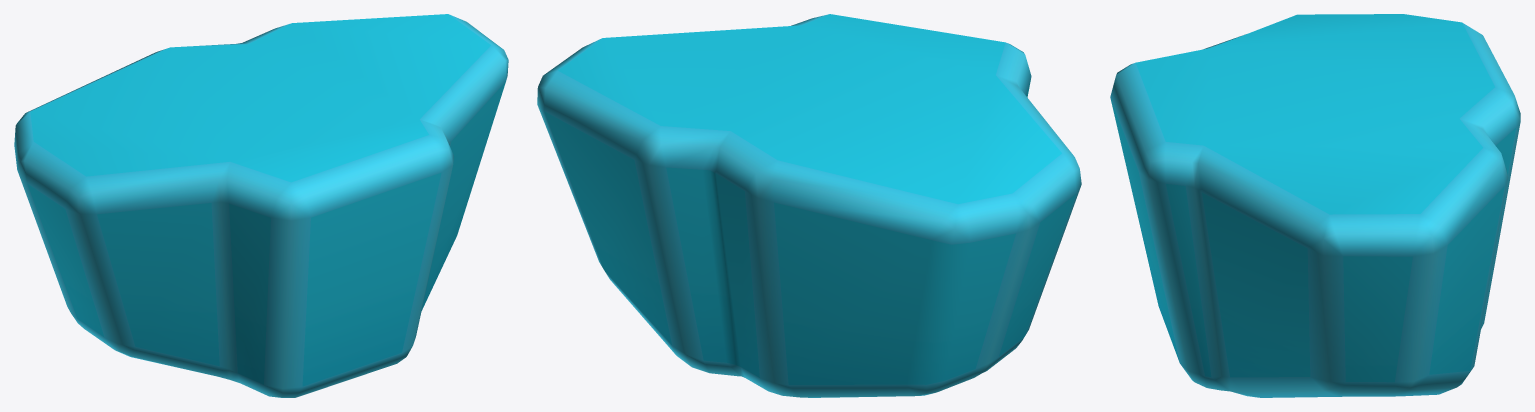
Rendered from ice_001.fbx.
3 renders of one model, left to right at view 1: azimuth 30°, elevation 25°; view 2: azimuth 150°, elevation 25°; view 3: azimuth 270°, elevation 25°, orthographic. The views are drawn at different scales.
Visible parts, largest first — view 1: ice_001; view 2: ice_001; view 3: ice_001.
Boxes of the visible parts, left/top/right/bottom form: ice_001: left=14, top=14, right=508, bottom=397; ice_001: left=537, top=14, right=1081, bottom=397; ice_001: left=1110, top=14, right=1520, bottom=397.
Size of the model in its own units: 337 by 245 by 170.
